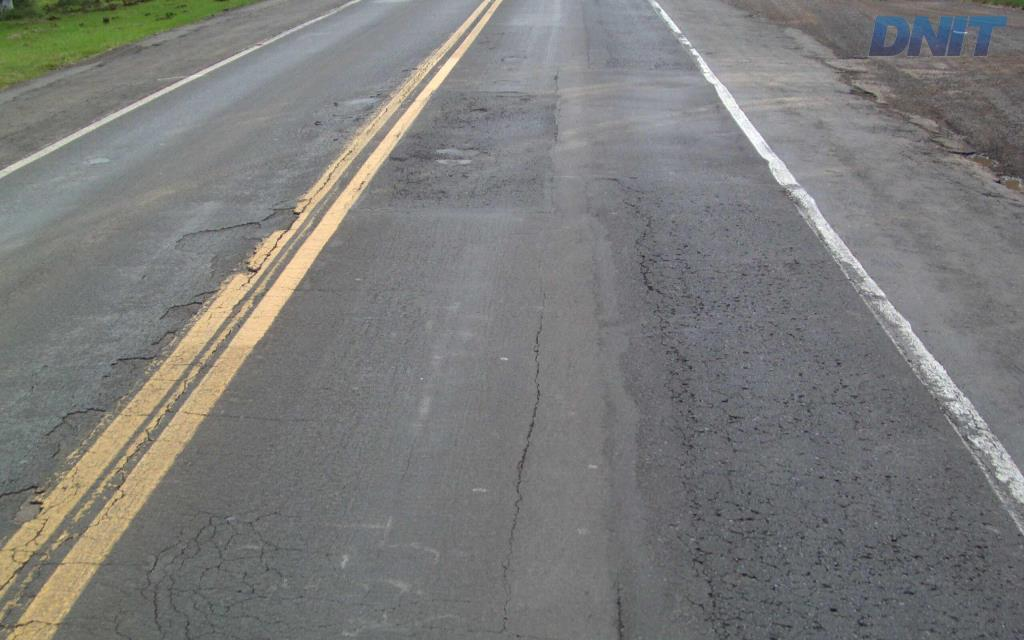crack: (141, 525, 229, 592), (167, 510, 242, 573), (949, 531, 993, 598), (727, 526, 777, 552), (687, 536, 715, 577)
